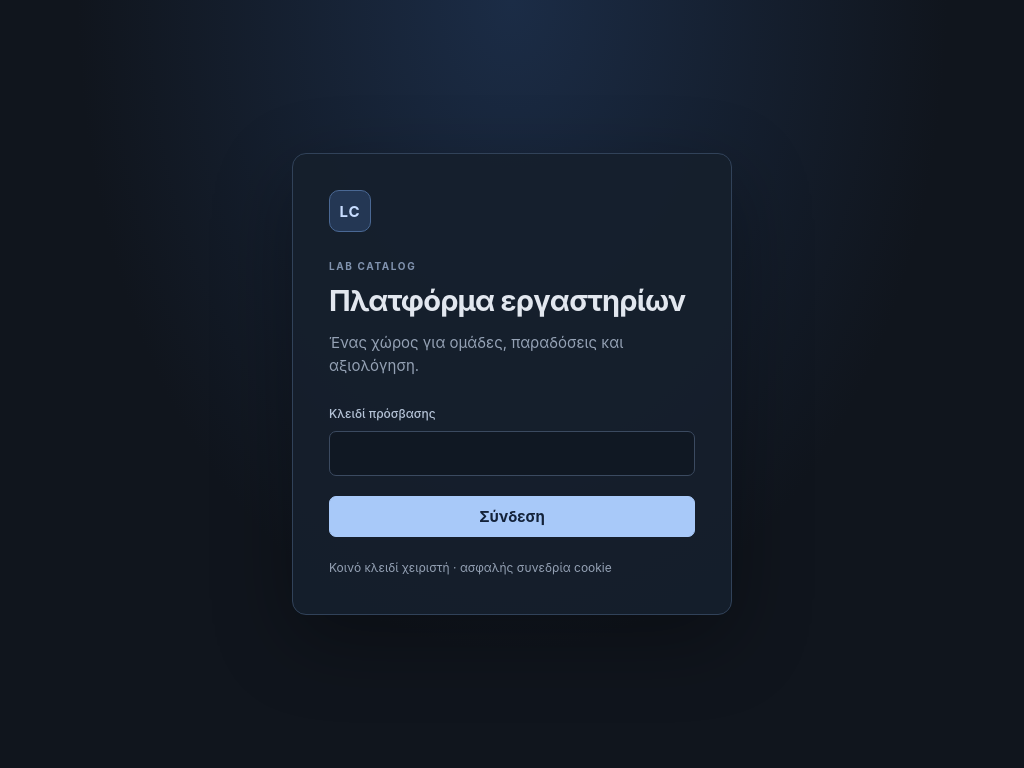
Test: logs in using password field and never stores a token in browser storage
The width and height of the screenshot is (1024, 768).
Type "SYNTHETIC-TEST-TOKEN" into the password field labelled "Κλειδί πρόσβασης" at (512, 453), box 329,431 -> 695,476
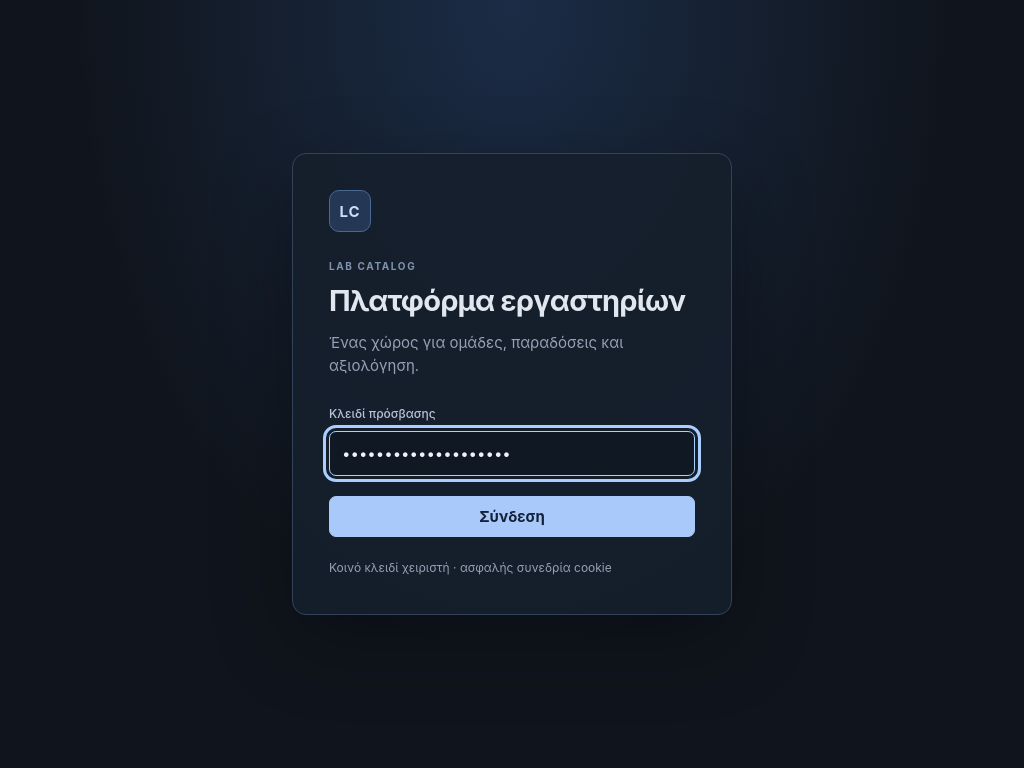
Click the button "Σύνδεση" at (512, 516), box 329,496 -> 695,537
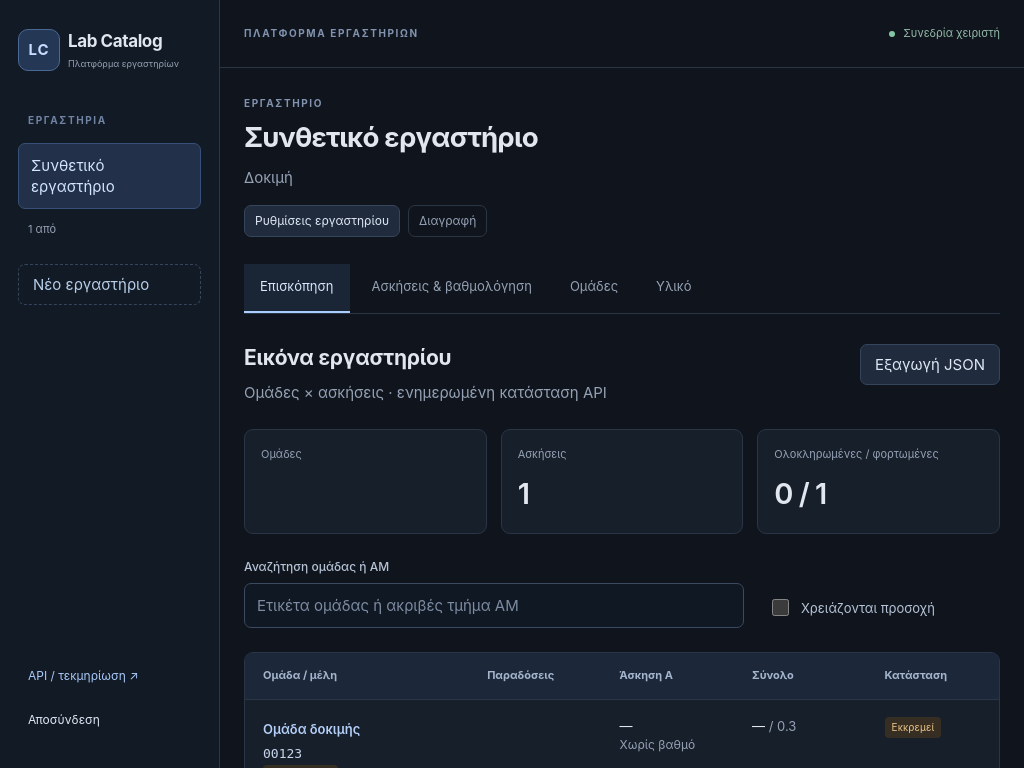
Expected: the heading "Συνθετικό εργαστήριο" is shown, 244,120 -> 538,154
